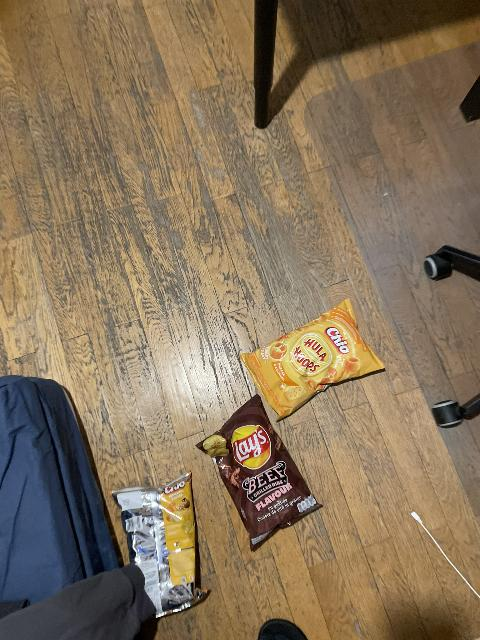Chio Cascaval 125g: (111, 472, 201, 619)
Chio Hula Hoops Cheese 70g: (236, 304, 378, 418)
Lays Beef Grilled Ribs 125g: (197, 400, 318, 550)
